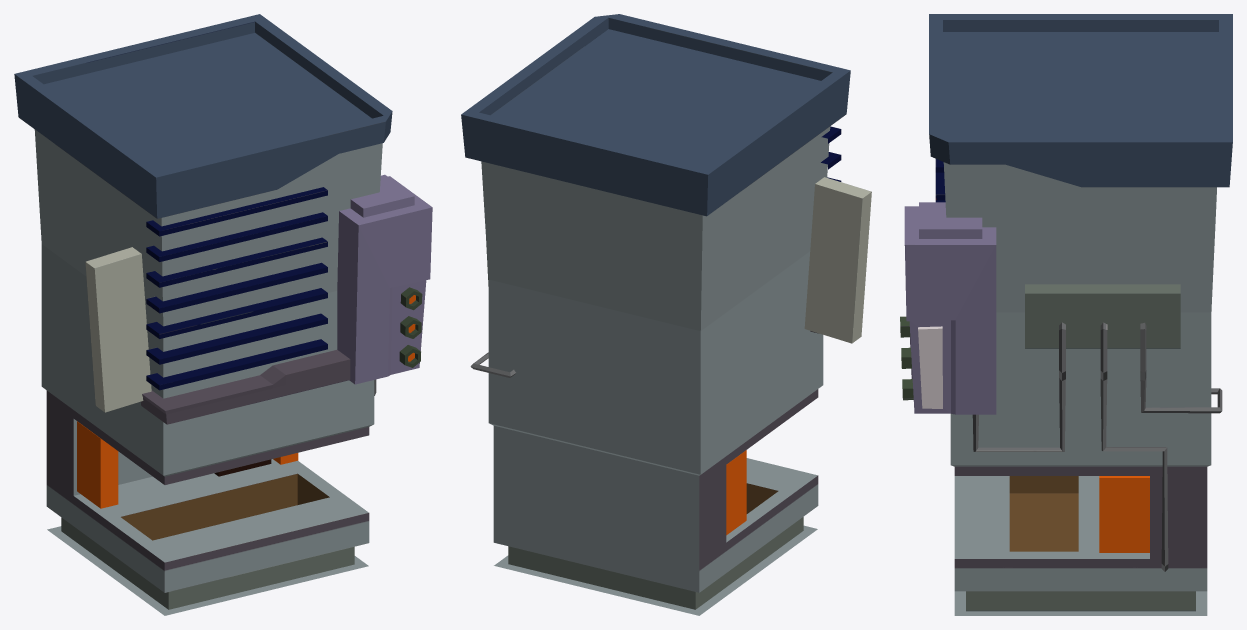
The picture shows the model from 3 angles, left to right: view 1: azimuth 30°, elevation 25°; view 2: azimuth 150°, elevation 25°; view 3: azimuth 270°, elevation 25°; orthographic projection. The views are drawn at different scales.
Visible parts, largest first — view 1: 立方体.009; view 2: 立方体.009; view 3: 立方体.009.
Part boxes in pixels (box(x1,y1,x2,y2)): 立方体.009: box(14, 14, 432, 615); 立方体.009: box(461, 14, 871, 615); 立方体.009: box(900, 14, 1232, 615).
Size of the model in its own units: 224 by 315 by 196.
